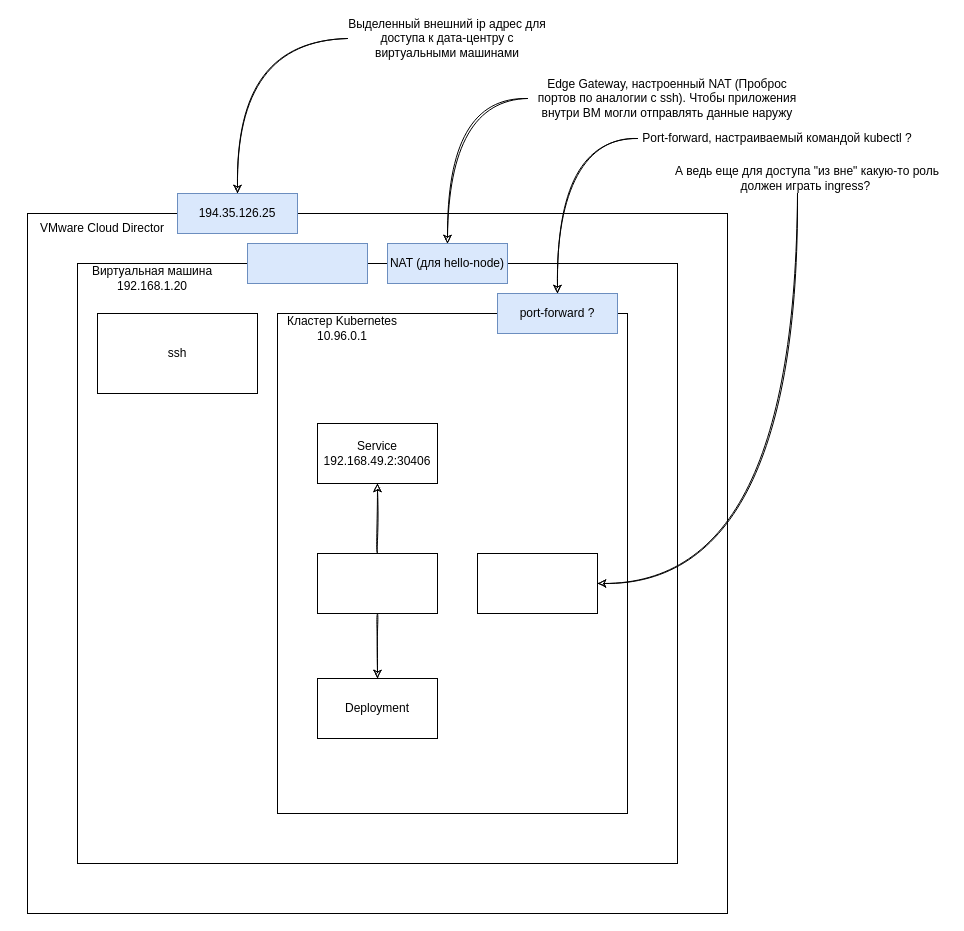
Image size: 964x931. Some labels were removed from this diagram. Each missing label, with the centre of its shape:
"Hello-node 10.103.253.158" belongs at point 377,583.
"Ingress ???" belongs at point 537,583.
"NAT (ext1 для ssh)" belongs at point 307,263.
